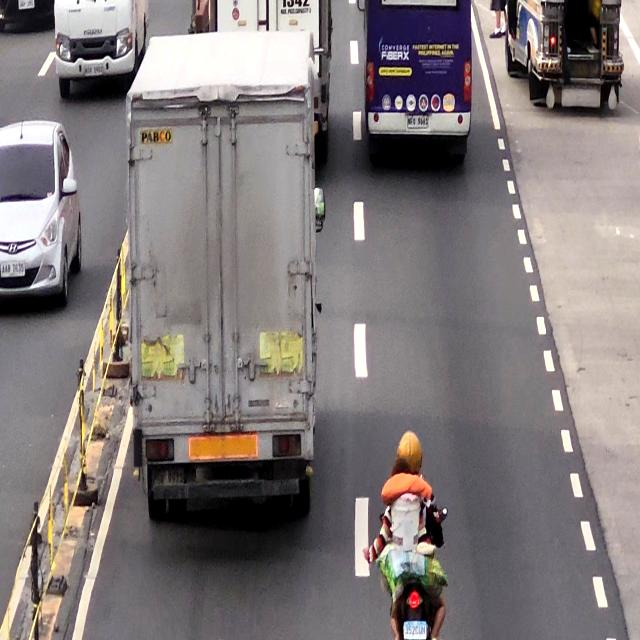Bus: (364, 0, 474, 150)
Jeep: (503, 0, 620, 105)
License-Plate: (401, 620, 428, 640), (406, 112, 428, 130)
Motorcycle: (380, 429, 449, 640)
Truck: (138, 38, 312, 526)
